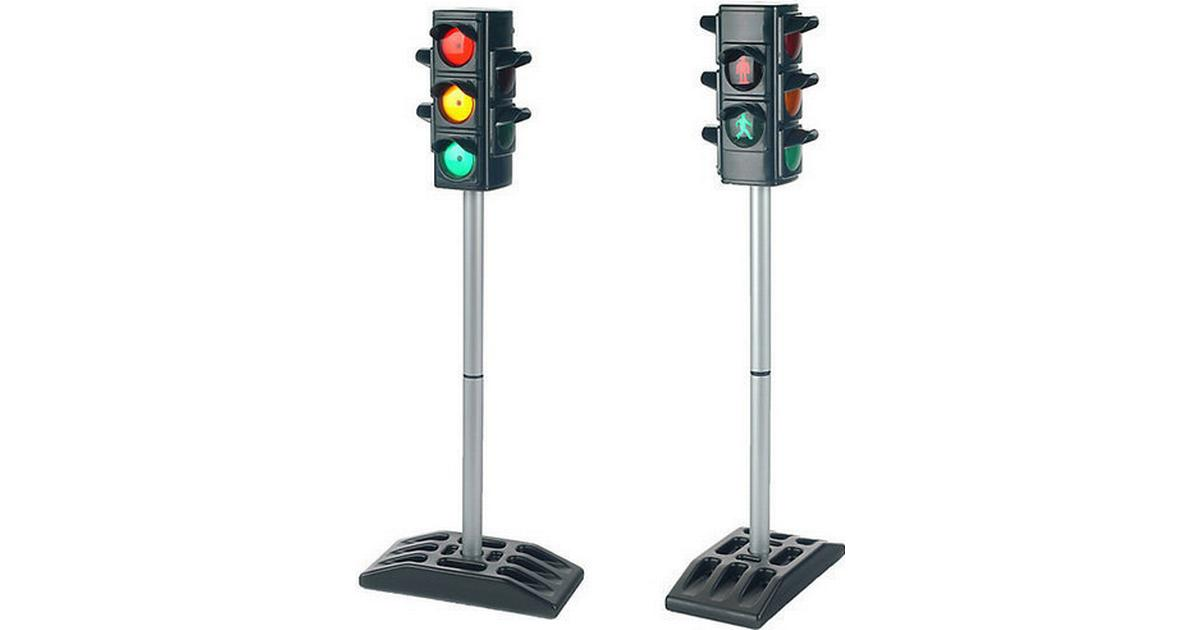trafficLight: (690, 1, 825, 196), (412, 2, 532, 201)
